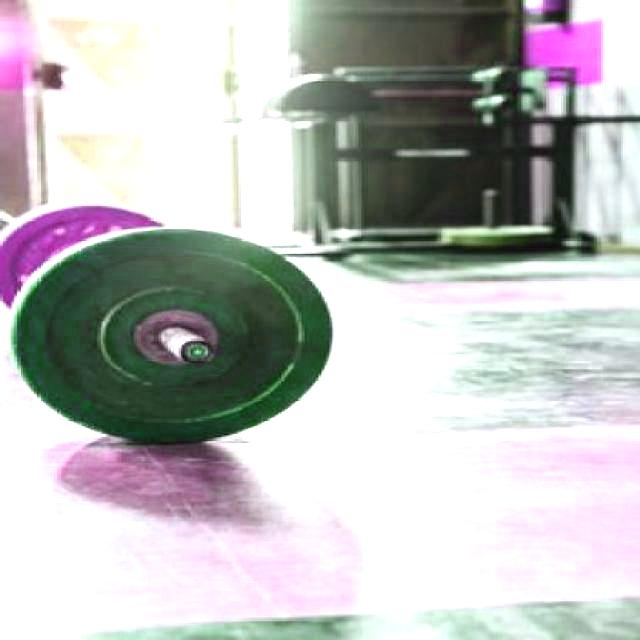barbell: (6, 223, 345, 452)
